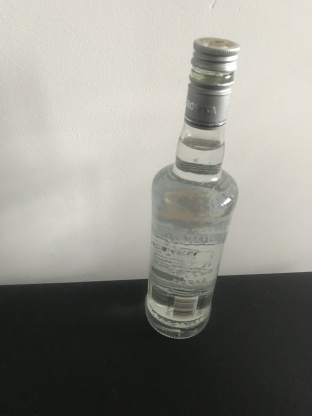nakretka: (182, 36, 241, 130)
